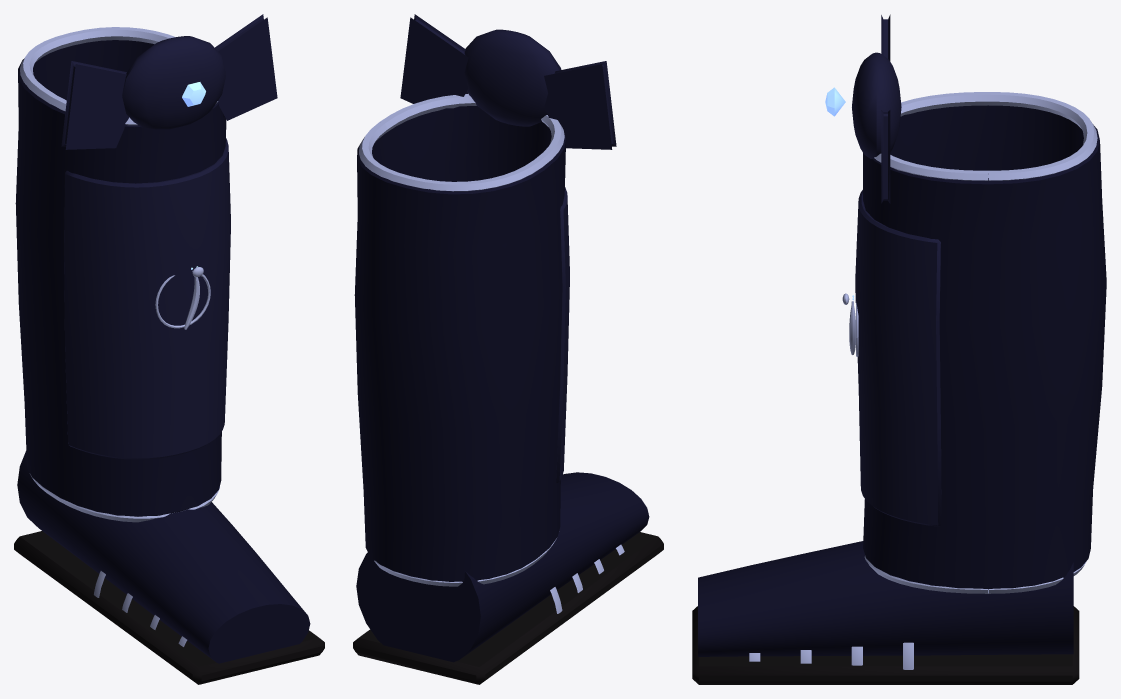
The model's file is asc_starless_stalker_boots.glb.
The picture shows the model from 3 angles, left to right: view 1: azimuth 30°, elevation 25°; view 2: azimuth 150°, elevation 25°; view 3: azimuth 270°, elevation 25°; orthographic projection. The views are drawn at different scales.
Parts seen in each view (by area): view 1: asc_starless_stalker_boots, AT_foot_L; view 2: asc_starless_stalker_boots, AT_foot_L; view 3: asc_starless_stalker_boots, AT_foot_L.
Boxes of the visible parts, left/top/right/bottom form: asc_starless_stalker_boots: left=15, top=14, right=277, bottom=522; AT_foot_L: left=14, top=451, right=324, bottom=684; asc_starless_stalker_boots: left=354, top=14, right=616, bottom=586; AT_foot_L: left=353, top=472, right=663, bottom=684; asc_starless_stalker_boots: left=825, top=14, right=1106, bottom=593; AT_foot_L: left=692, top=541, right=1079, bottom=684.
Bounding box in the file's own units: 0.2244 × 0.5768 × 0.3641.
